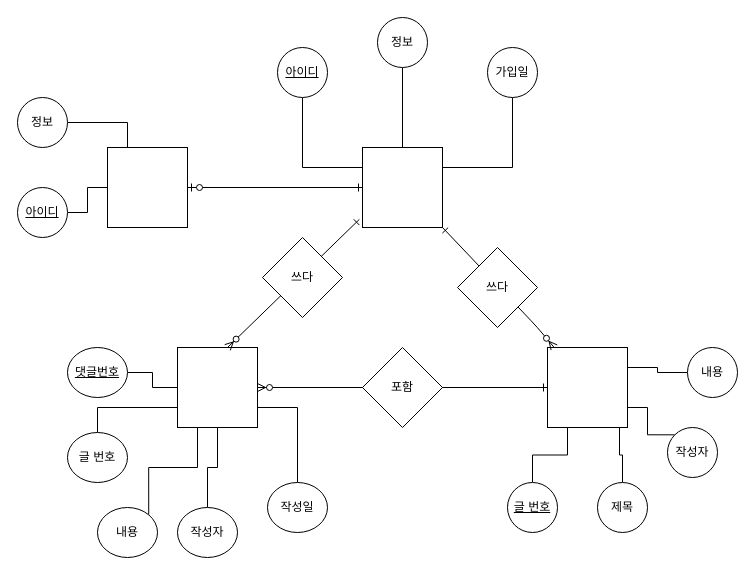
This 755x575 diagram has some shape labels left out. Each missing label, with the centre of its shape:
"게시글" goes at point (587, 387).
"관리자" goes at point (147, 187).
"댓글" goes at point (217, 387).
"회원" goes at point (402, 187).
